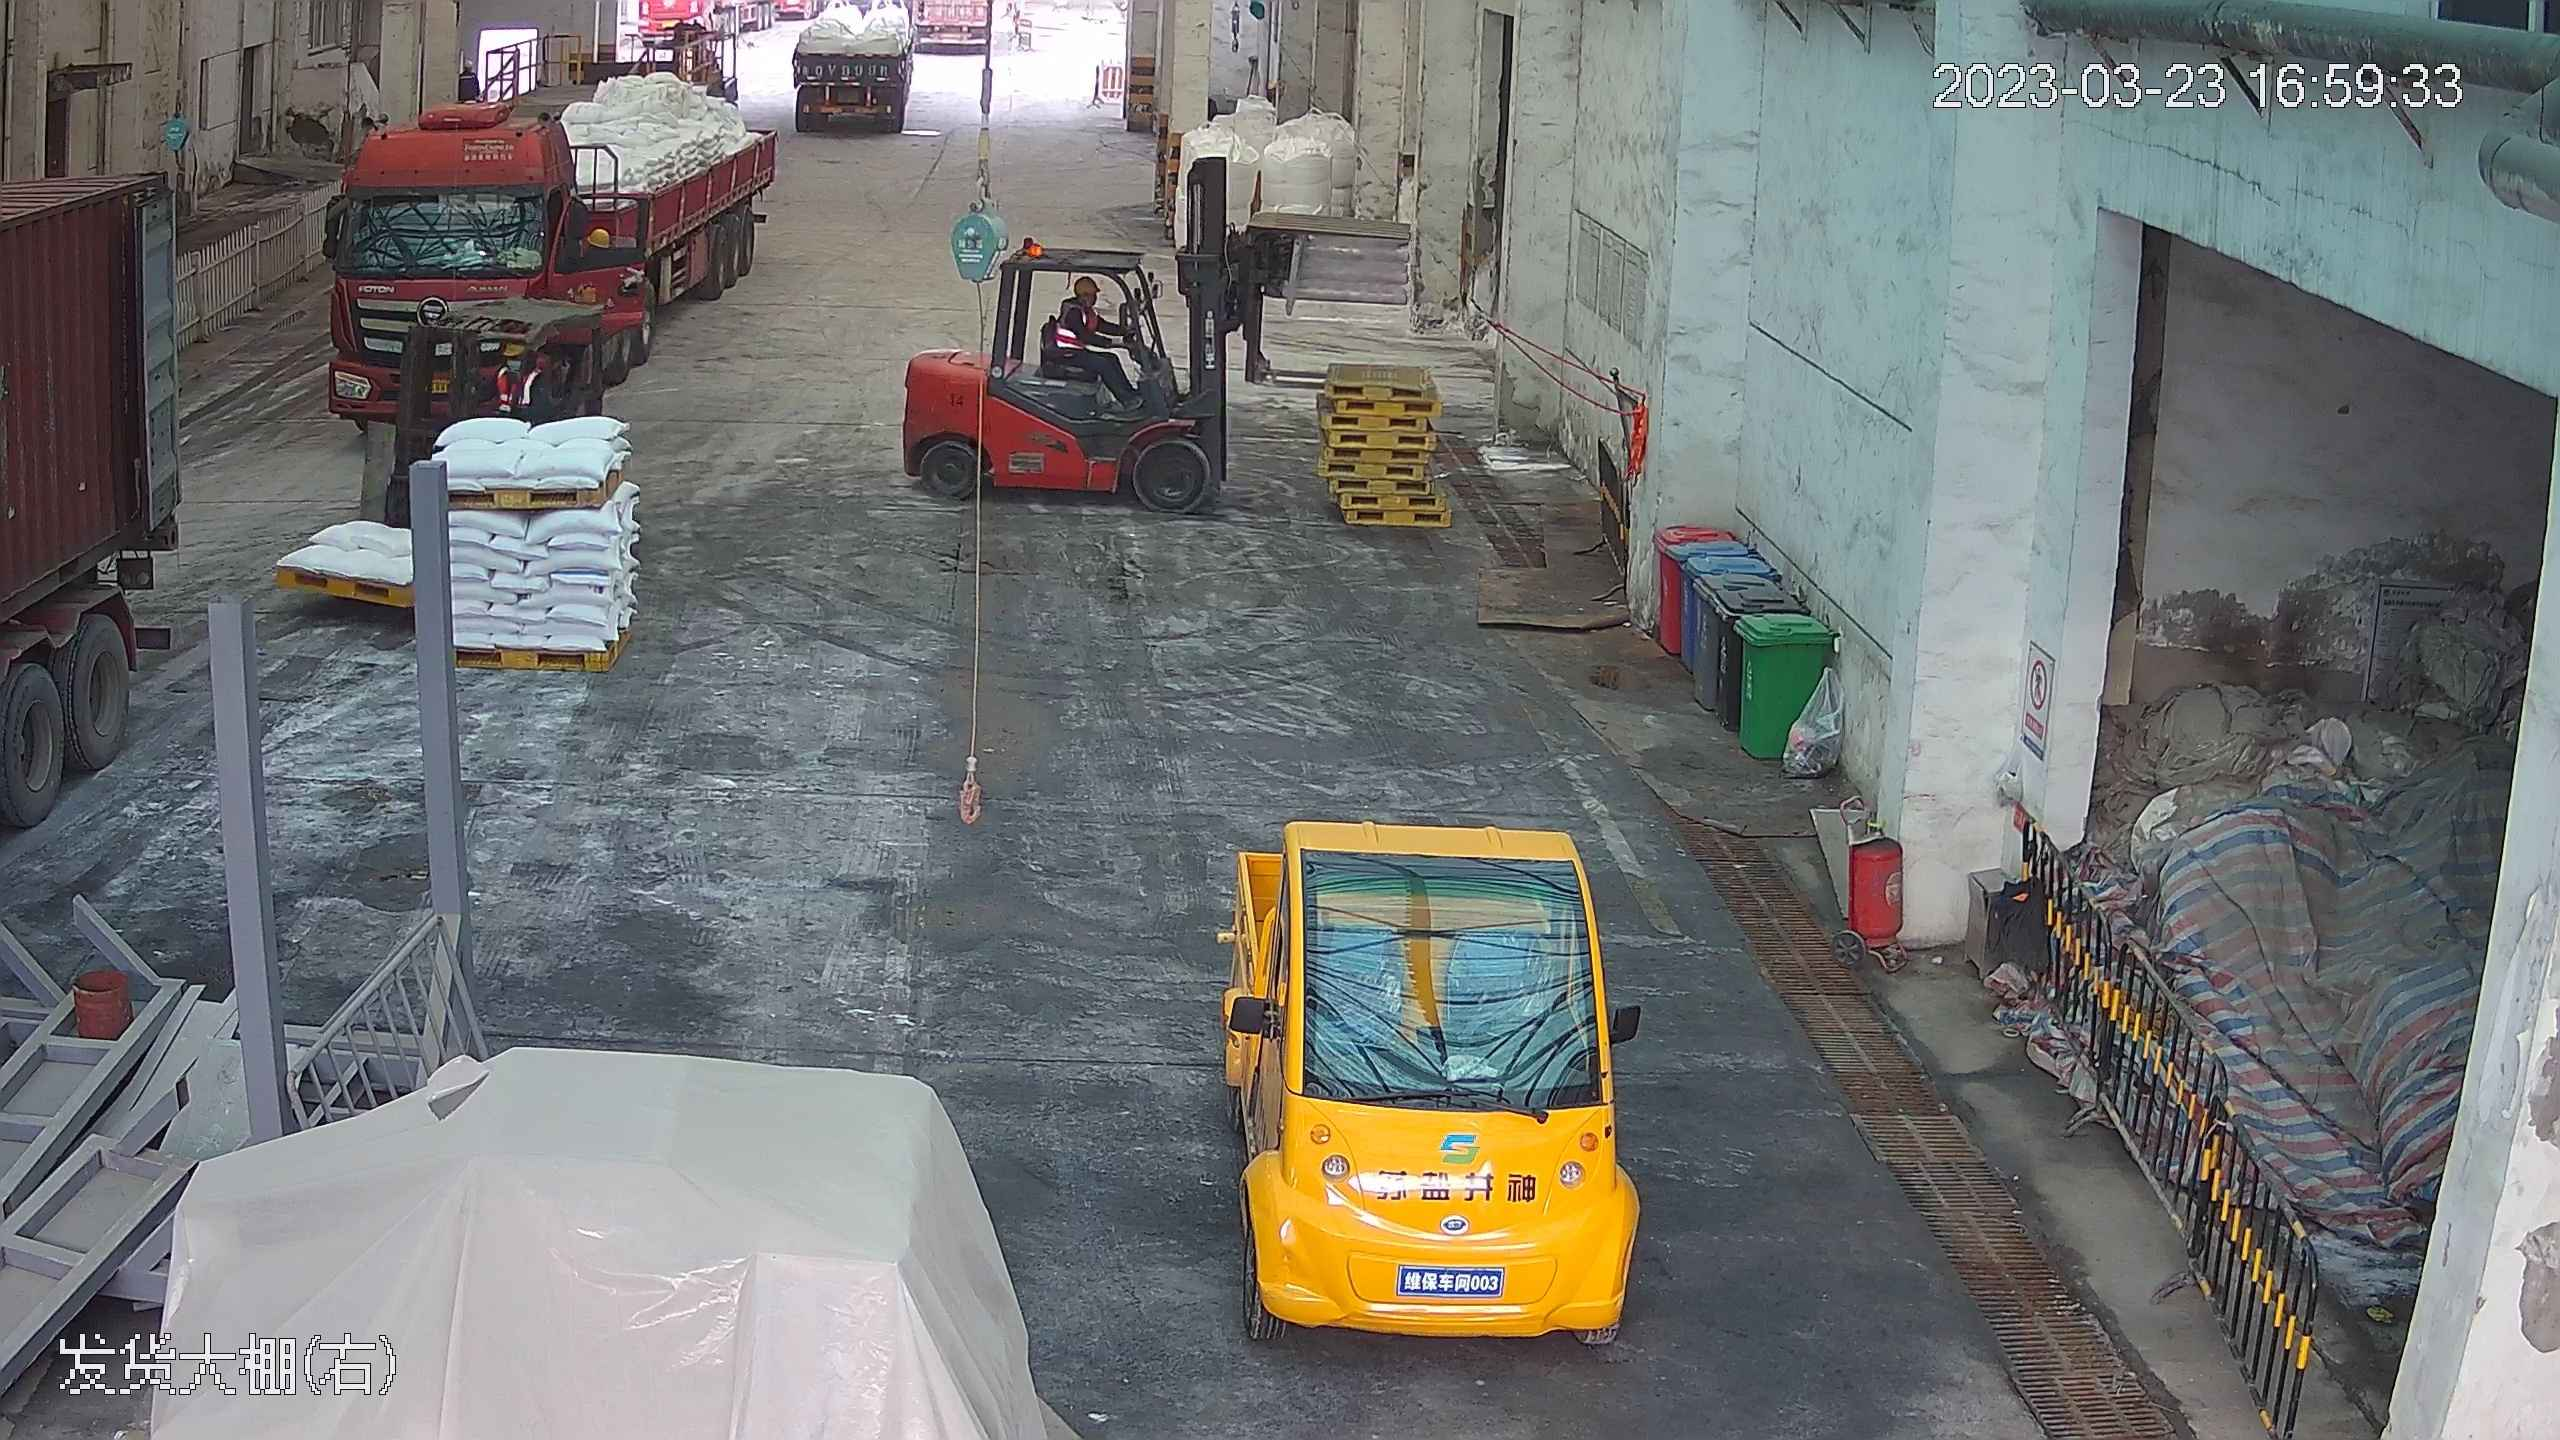head: (1057, 270, 1110, 329)
helmet: (1070, 270, 1100, 296)
people: (1046, 268, 1141, 408)
truck: (1, 41, 200, 1030), (311, 37, 781, 436), (779, 1, 924, 133)
